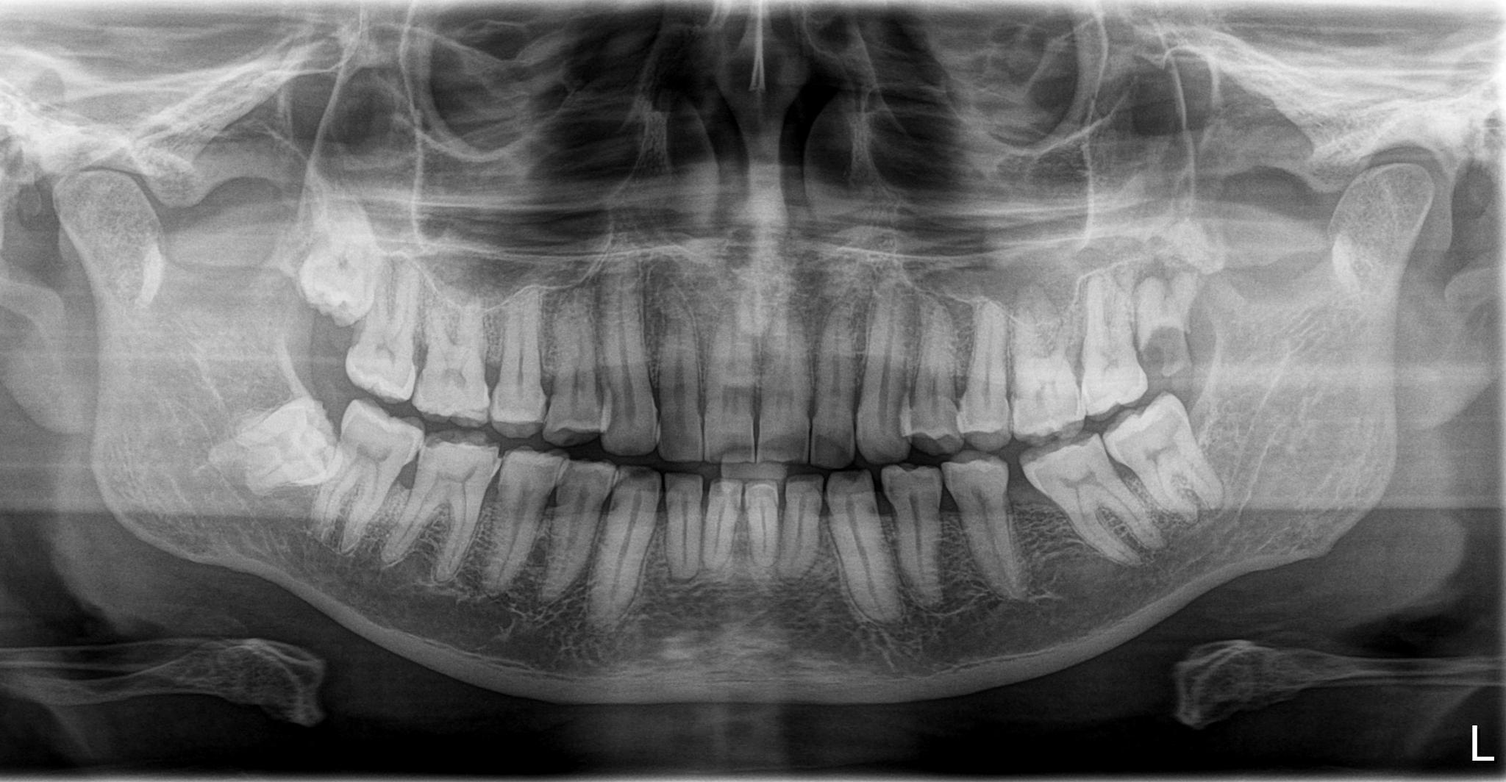Impacted Third Molar: (305, 176, 374, 320), (243, 401, 314, 500)
Tooth Fracture: (1136, 288, 1216, 385)
